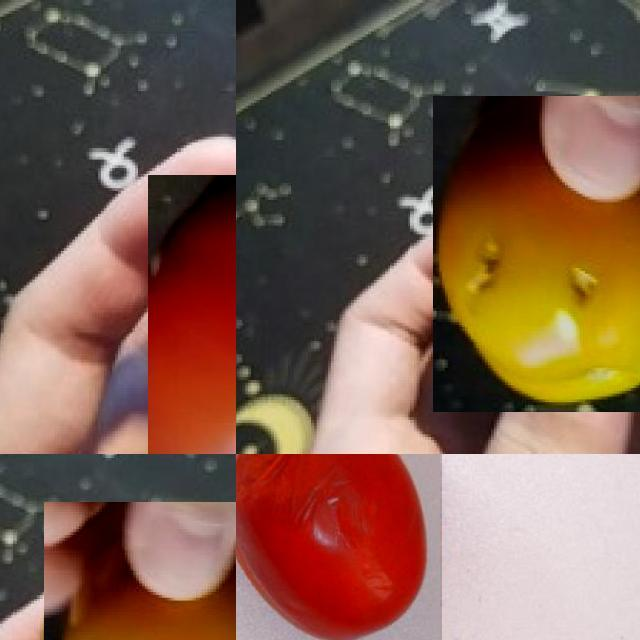Fresh Tomato: (148, 175, 236, 454)
Rotten Tomato: (433, 96, 640, 411), (236, 454, 442, 640), (44, 502, 236, 640)
